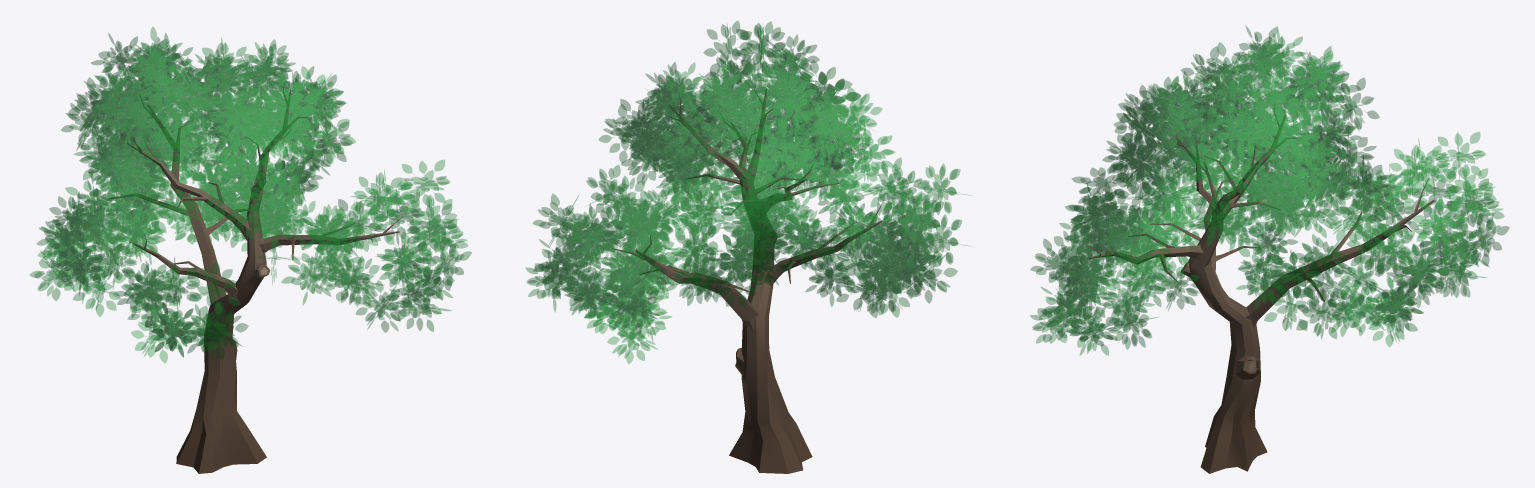
File: PT_Fruit_Tree_01_green.glb
3 renders of one model, left to right at view 1: azimuth 30°, elevation 25°; view 2: azimuth 150°, elevation 25°; view 3: azimuth 270°, elevation 25°, orthographic.
Visible parts, largest first — view 1: PT_Fruit_Tree_01_green_LOD0; view 2: PT_Fruit_Tree_01_green_LOD0; view 3: PT_Fruit_Tree_01_green_LOD0.
Part boxes in pixels (<box>): PT_Fruit_Tree_01_green_LOD0: <box>30,27,471,473</box>; PT_Fruit_Tree_01_green_LOD0: <box>525,21,969,473</box>; PT_Fruit_Tree_01_green_LOD0: <box>1030,26,1509,473</box>.
Size of the model in its own units: 6.5 by 6.58 by 7.25.
Materials: 2 (2 with a texture image).
